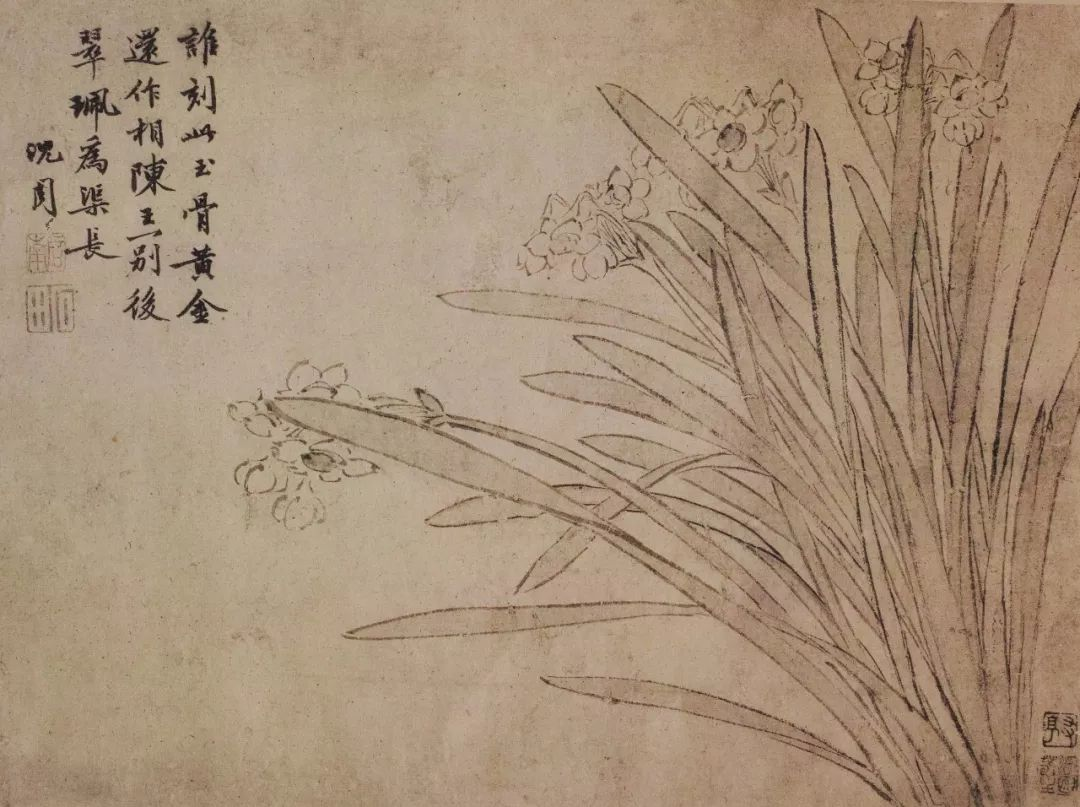flower: (230, 348, 420, 529), (631, 71, 809, 188), (517, 167, 677, 295), (854, 34, 1014, 151)
grass: (409, 69, 1076, 806)
